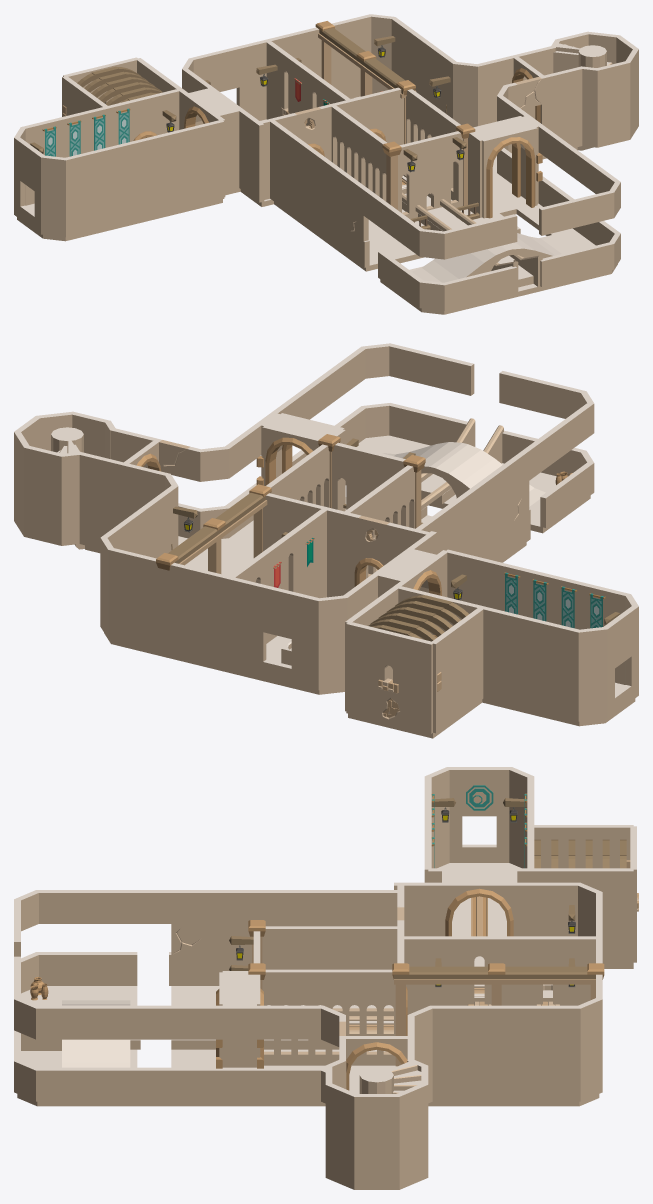
Rendered from Abbey_1.glb.
3 views of the same model, one above another, from view 1: azimuth 30°, elevation 25°; view 2: azimuth 150°, elevation 25°; view 3: azimuth 270°, elevation 25° (orthographic). The views are drawn at different scales.
Visible parts, largest first — view 1: Wall_Straight_Middle (×33), Wall_Curved_Small_Middle (×10), Tower_Wall_Normal_Plain (×3), Floor_Normal_Square (×7), Wall_Straight_Doorway_Large (×4), Wall_Straight_Doorway_Large_Extension (×2), Floor_Bridge_Ramp (×2), Wall_Straight_Window_Tall (×3), Pillar_Large_Beam_Top, Tower_Bottom, Wall_Straight_Windows_Tall (×2), Wall_Ruined_Full_Cracked_1 (+4 smaller); view 2: Wall_Straight_Middle (×34), Wall_Curved_Small_Middle (×11), Tower_Wall_Normal_Plain (×3), Floor_Normal_Square (×4), Wall_Straight_Doorway_Large (×3), Floor_Bridge_Ramp (×2), Wall_Straight_Doorway_Large_Extension (×2), Pillar_Large_Beam_Top, Wall_Straight_Window_Tall (×2), Tower_Bottom, Wall_Ruined_Full_2, Wall_Ruined_Full_Cracked_1 (+3 smaller); view 3: Wall_Straight_Middle (×21), Wall_Curved_Small_Middle (×11), Tower_Wall_Normal_Plain (×3), Floor_Normal_Square (×5), Wall_Straight_Doorway_Large (×2), Pillar_Large_Beam_Top, Wall_Straight_Doorway_Large_Extension (×2), Wall_Straight_Windows_Tall (×4), Floor_Bridge_Ramp, Wall_Straight_Window_Tall (×2), Tower_Bottom, Puzzle_Track_Standard_Straight (+1 smaller).
Part boxes in pixels (bbox=[...]): Wall_Straight_Middle (×33): bbox=[20, 15, 613, 307]; Wall_Curved_Small_Middle (×10): bbox=[14, 14, 620, 310]; Tower_Wall_Normal_Plain (×3): bbox=[550, 31, 638, 147]; Floor_Normal_Square (×7): bbox=[75, 168, 601, 312]; Wall_Straight_Doorway_Large (×4): bbox=[183, 55, 546, 218]; Wall_Straight_Doorway_Large_Extension (×2): bbox=[186, 88, 538, 217]; Floor_Bridge_Ramp (×2): bbox=[412, 233, 571, 282]; Wall_Straight_Window_Tall (×3): bbox=[279, 65, 463, 218]; Pillar_Large_Beam_Top: bbox=[318, 28, 416, 98]; Tower_Bottom: bbox=[553, 43, 627, 150]; Wall_Straight_Windows_Tall (×2): bbox=[331, 133, 359, 182]; Wall_Ruined_Full_Cracked_1: bbox=[515, 77, 541, 109]; Wall_Straight_Middle (×34): bbox=[78, 346, 631, 733]; Wall_Curved_Small_Middle (×11): bbox=[100, 343, 638, 721]; Tower_Wall_Normal_Plain (×3): bbox=[14, 411, 115, 545]; Floor_Normal_Square (×4): bbox=[122, 438, 583, 691]; Wall_Straight_Doorway_Large (×3): bbox=[120, 426, 441, 595]; Floor_Bridge_Ramp (×2): bbox=[381, 442, 545, 507]; Wall_Straight_Doorway_Large_Extension (×2): bbox=[261, 413, 436, 597]; Pillar_Large_Beam_Top: bbox=[168, 492, 270, 565]; Wall_Straight_Window_Tall (×2): bbox=[282, 474, 356, 592]; Tower_Bottom: bbox=[26, 427, 84, 549]; Wall_Ruined_Full_2: bbox=[358, 515, 389, 554]; Wall_Ruined_Full_Cracked_1: bbox=[159, 440, 189, 478]; Wall_Straight_Middle (×21): bbox=[48, 767, 633, 1101]; Wall_Curved_Small_Middle (×11): bbox=[14, 767, 602, 1103]; Tower_Wall_Normal_Plain (×3): bbox=[325, 1059, 428, 1189]; Floor_Normal_Square (×5): bbox=[21, 986, 564, 1106]; Wall_Straight_Doorway_Large (×2): bbox=[339, 883, 517, 1090]; Pillar_Large_Beam_Top: bbox=[394, 966, 595, 984]; Wall_Straight_Doorway_Large_Extension (×2): bbox=[222, 869, 517, 1067]; Wall_Straight_Windows_Tall (×4): bbox=[264, 1003, 395, 1065]; Floor_Bridge_Ramp: bbox=[62, 1039, 130, 1067]; Wall_Straight_Window_Tall (×2): bbox=[462, 954, 564, 1005]; Tower_Bottom: bbox=[359, 1061, 421, 1093]; Puzzle_Track_Standard_Straight: bbox=[462, 896, 496, 936].
Size of the model in its own units: 22.8 by 3.35 by 18.26.
